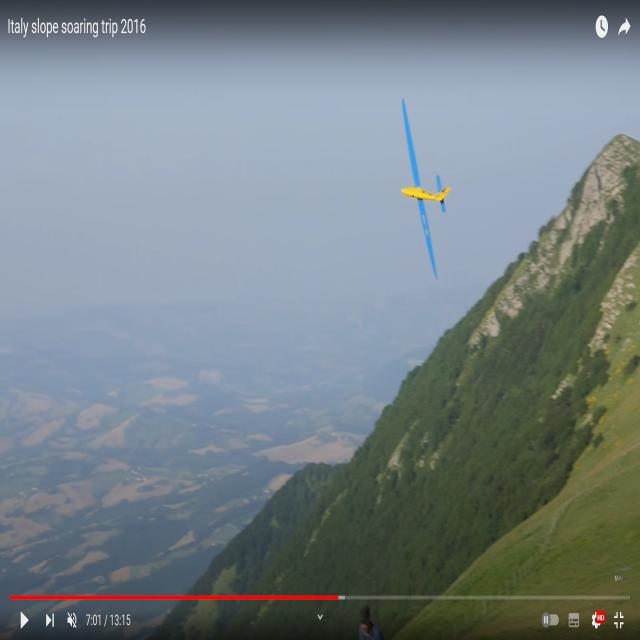iha: (400, 96, 452, 280)
